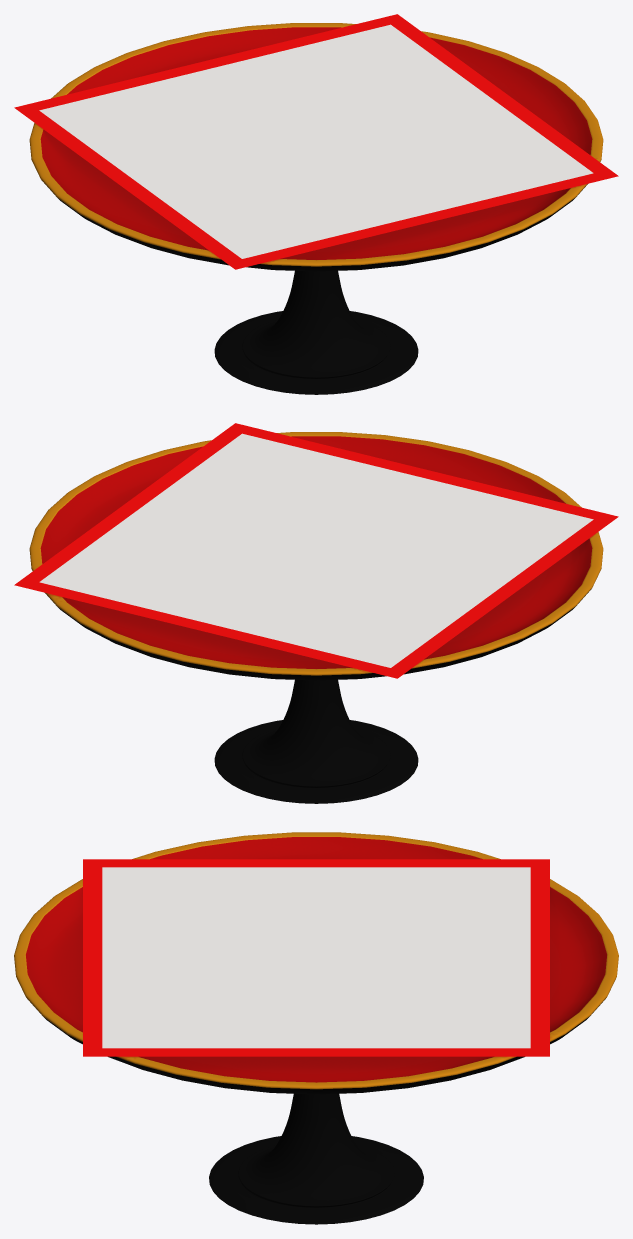
The model's file is lacquerware 1.glb.
3 renders of one model, top to bottom at view 1: azimuth 30°, elevation 25°; view 2: azimuth 150°, elevation 25°; view 3: azimuth 270°, elevation 25°, orthographic. The views are drawn at different scales.
Parts seen in each view (by area): view 1: Plane, BezierCurve; view 2: Plane, BezierCurve; view 3: Plane, BezierCurve.
Boxes of the visible parts, x1,y1,x2,y2 form: Plane: [14, 14, 618, 269]; BezierCurve: [29, 23, 603, 394]; Plane: [14, 423, 618, 678]; BezierCurve: [29, 432, 603, 803]; Plane: [83, 859, 549, 1056]; BezierCurve: [14, 832, 618, 1224].
Size of the model in its own units: 9.45 by 3.82 by 9.46.
Materials: 2 (2 with a texture image).
